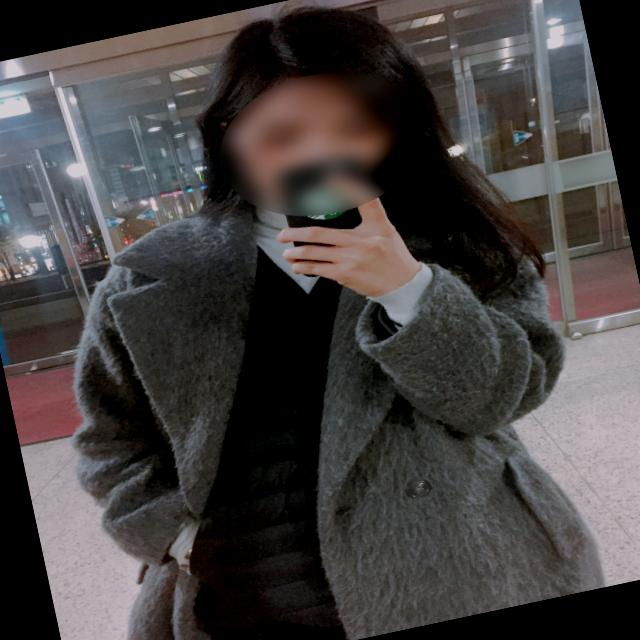coat: (21, 132, 601, 640)
padding: (137, 206, 422, 640)
